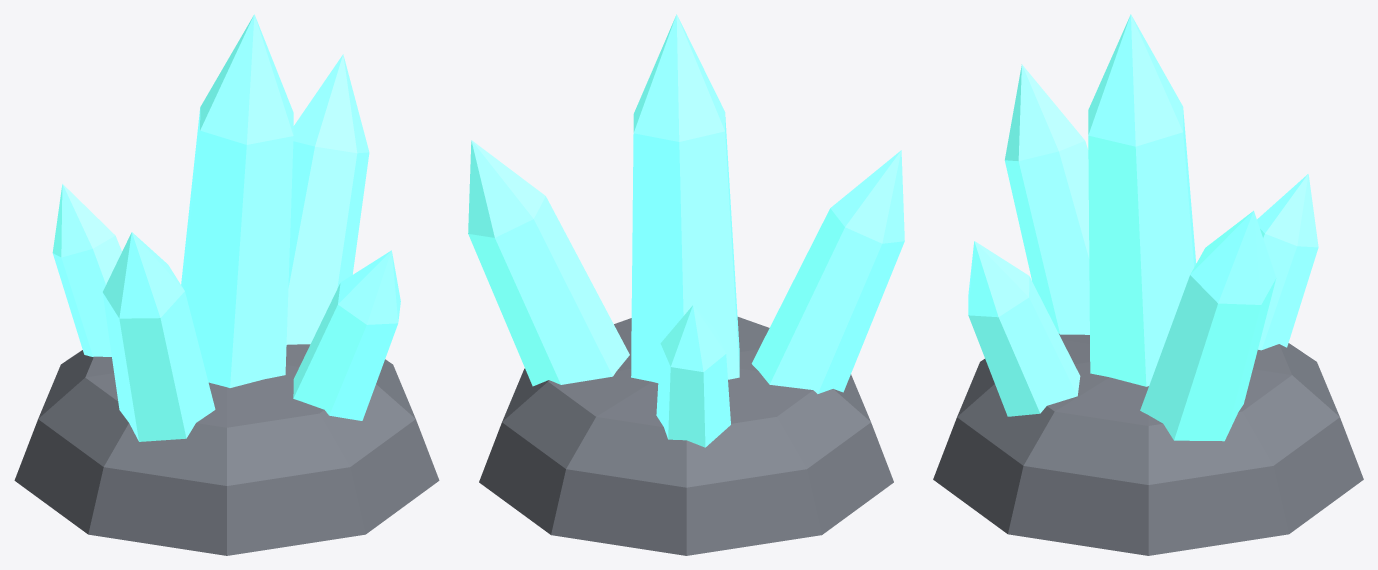
Rendered from crystal_cluster.glb.
3 renders of one model, left to right at view 1: azimuth 30°, elevation 25°; view 2: azimuth 150°, elevation 25°; view 3: azimuth 270°, elevation 25°, orthographic. The views are drawn at different scales.
Parts seen in each view (by area): view 1: CrystalSpires, CrystalRockBase; view 2: CrystalSpires, CrystalRockBase; view 3: CrystalSpires, CrystalRockBase.
Boxes of the visible parts, box(x1,y1,x2,y2) form: CrystalSpires: box(52, 14, 400, 441); CrystalRockBase: box(14, 344, 439, 555); CrystalSpires: box(468, 14, 904, 447); CrystalRockBase: box(479, 317, 893, 555); CrystalSpires: box(968, 14, 1318, 441); CrystalRockBase: box(933, 334, 1363, 555).
Size of the model in its own units: 1.4 by 1.67 by 1.42.
